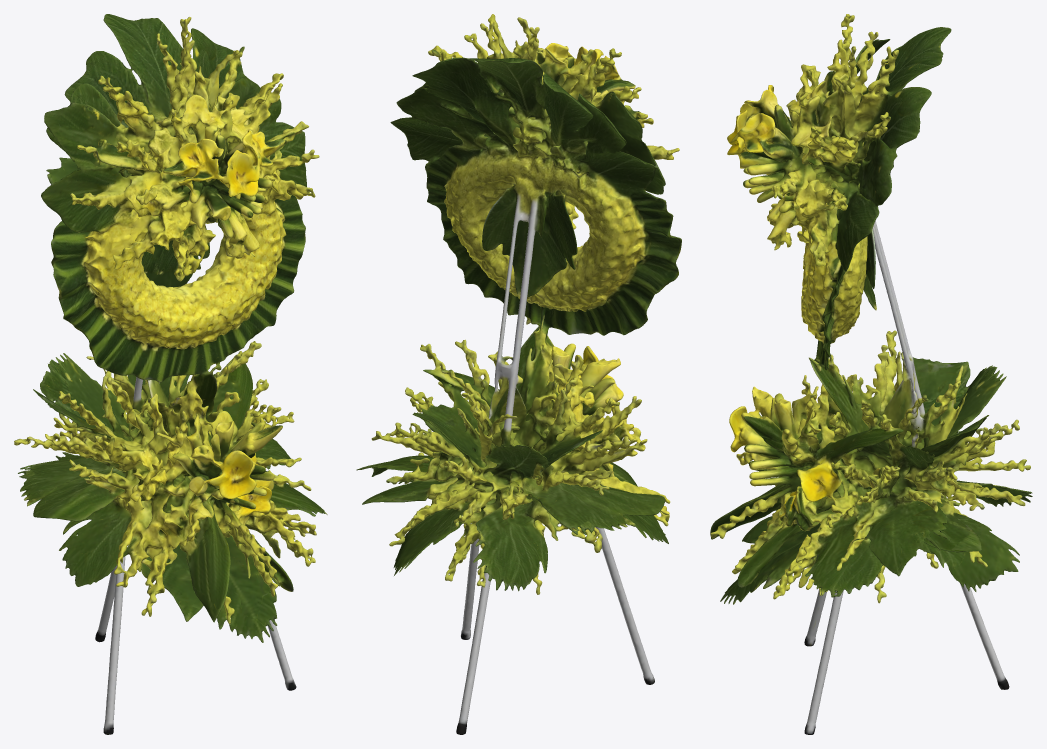
Rendered from Meshy_AI_Golden_Remembrance_1013162559_texture.fbx.
3 renders of one model, left to right at view 1: azimuth 30°, elevation 25°; view 2: azimuth 150°, elevation 25°; view 3: azimuth 270°, elevation 25°, orthographic.
Parts seen in each view (by area): view 1: Mesh_0; view 2: Mesh_0; view 3: Mesh_0.
Boxes of the visible parts, box(x1,y1,x2,y2) form: Mesh_0: box(14, 14, 327, 734); Mesh_0: box(356, 14, 681, 734); Mesh_0: box(710, 14, 1032, 734).
Bounding box in the file's own units: 82.57 × 190 × 84.57.
1 material, 1 textured.
